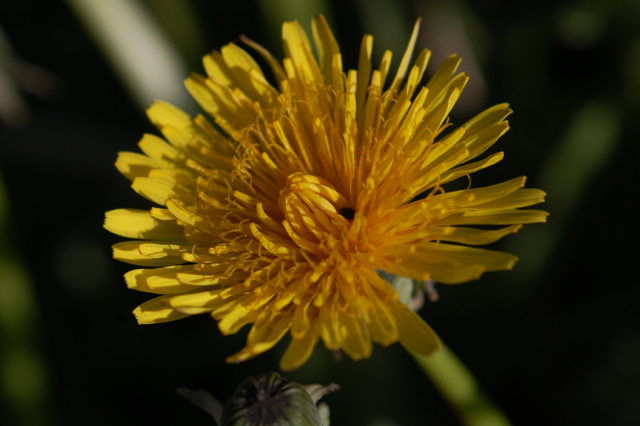dandelion: (120, 80, 504, 349)
